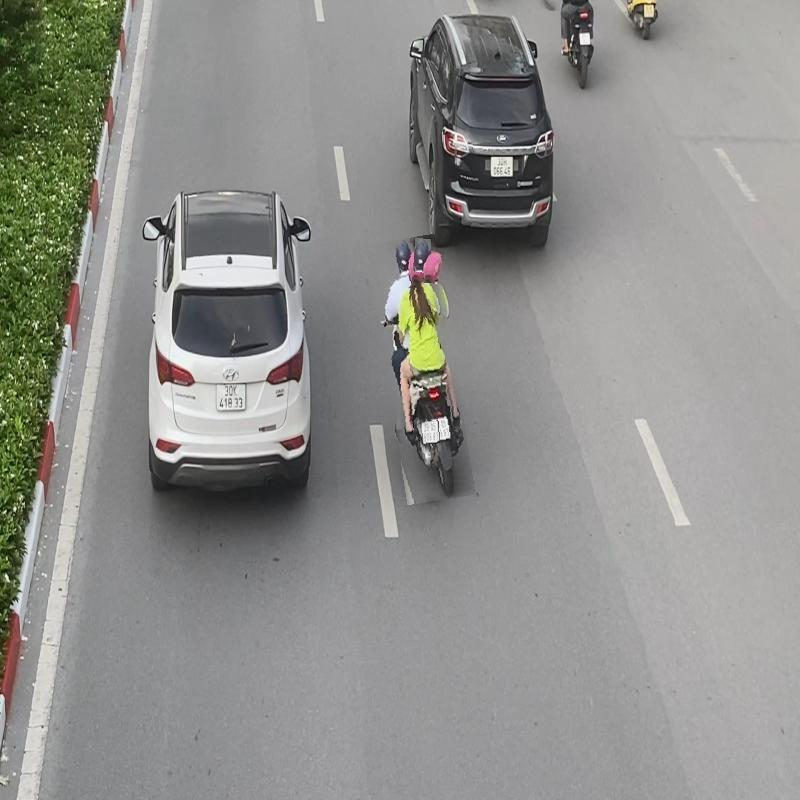helmet: (424, 252, 443, 284), (414, 239, 430, 272)
licenseplate: (422, 420, 440, 444)
motorcyclist: (376, 237, 465, 504)
